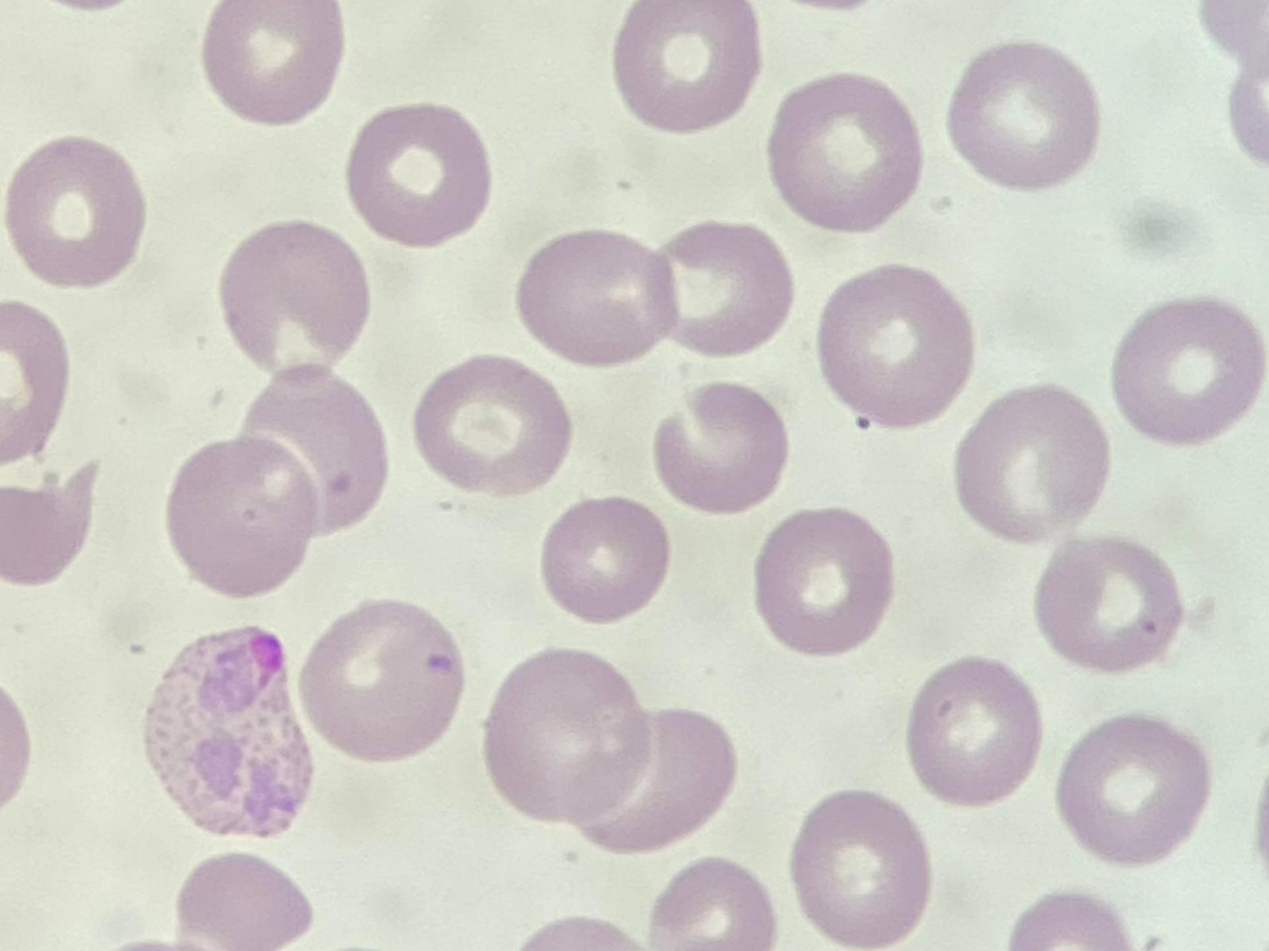Infected: (952, 113, 1130, 321)
Uninfected: (616, 124, 785, 302), (806, 189, 968, 350), (884, 420, 1039, 587), (530, 95, 699, 245), (296, 524, 449, 687), (159, 407, 315, 566), (345, 716, 500, 876), (952, 356, 1101, 518), (901, 569, 1050, 727), (590, 582, 752, 722), (58, 86, 210, 232), (699, 456, 858, 595), (337, 0, 477, 156), (7, 503, 156, 649), (1124, 666, 1262, 814), (377, 296, 513, 446), (474, 593, 627, 726), (170, 764, 316, 903), (780, 707, 923, 847), (86, 278, 234, 413), (511, 817, 658, 951), (225, 146, 360, 288), (925, 821, 1068, 951), (482, 437, 615, 566), (600, 324, 728, 455), (955, 0, 1093, 99)
